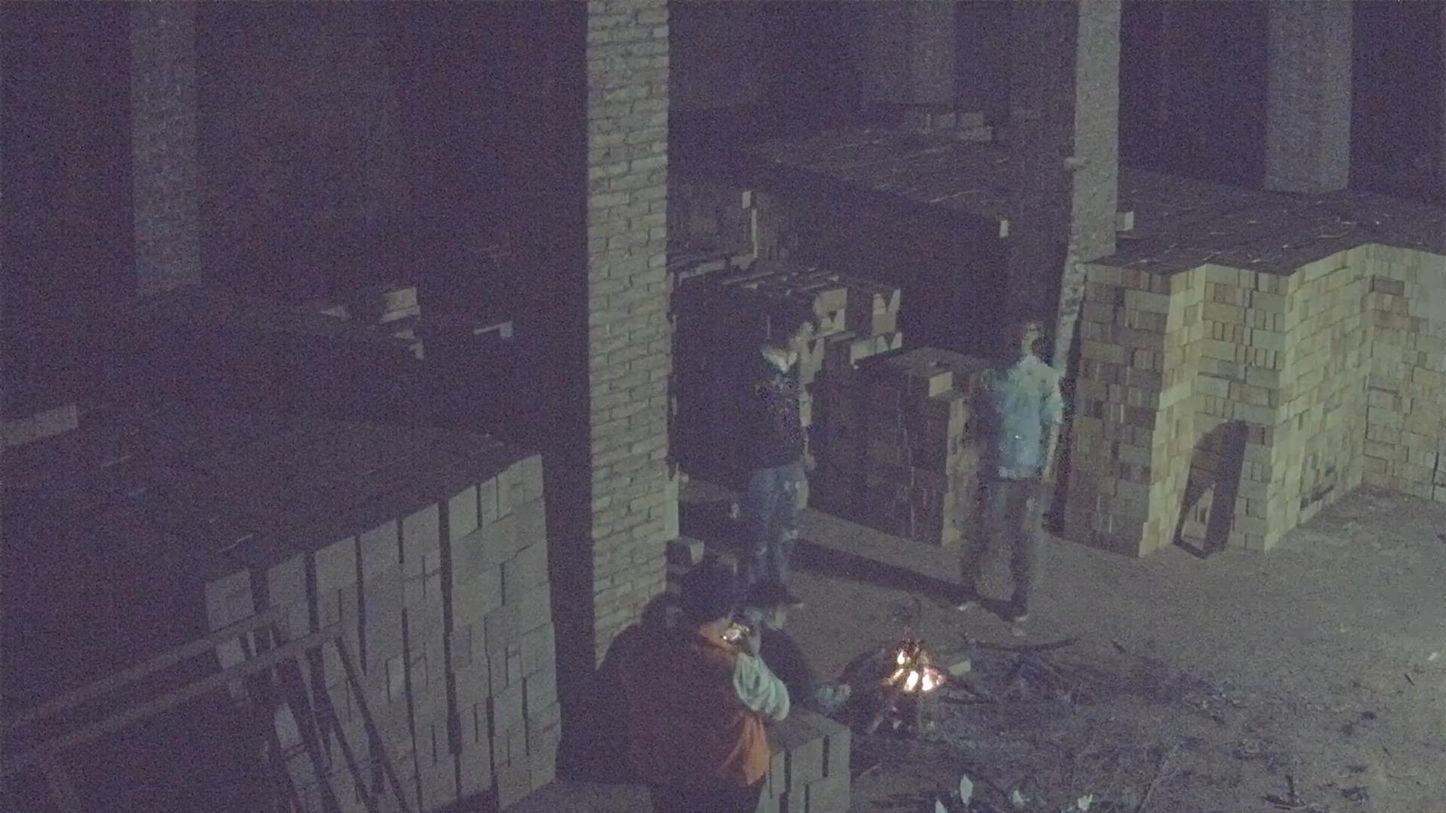fire: (880, 638, 944, 695)
